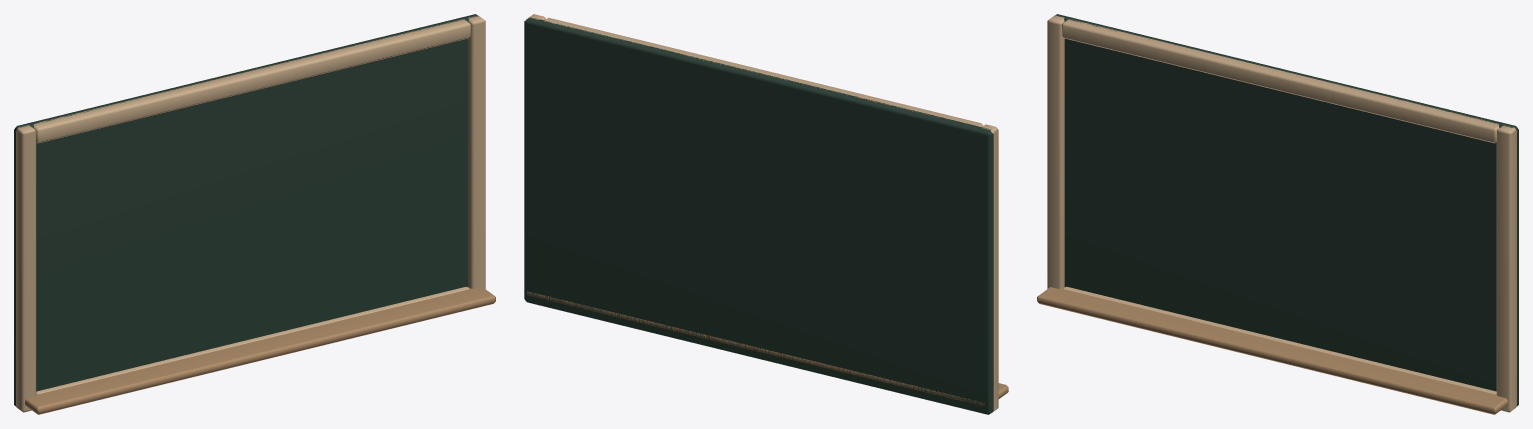
Rendered from blackboard.glb.
3 views of the same model, side by side, from view 1: azimuth 30°, elevation 25°; view 2: azimuth 150°, elevation 25°; view 3: azimuth 330°, elevation 25° (orthographic).
Parts seen in each view (by area): view 1: Body; view 2: Body; view 3: Body.
Part boxes in pixels (box(x1,y1,x2,y2)): Body: box(14, 14, 495, 414); Body: box(524, 14, 1008, 414); Body: box(1037, 14, 1518, 414).
Size of the model in its own units: 1.9 by 1.1 by 0.16.
